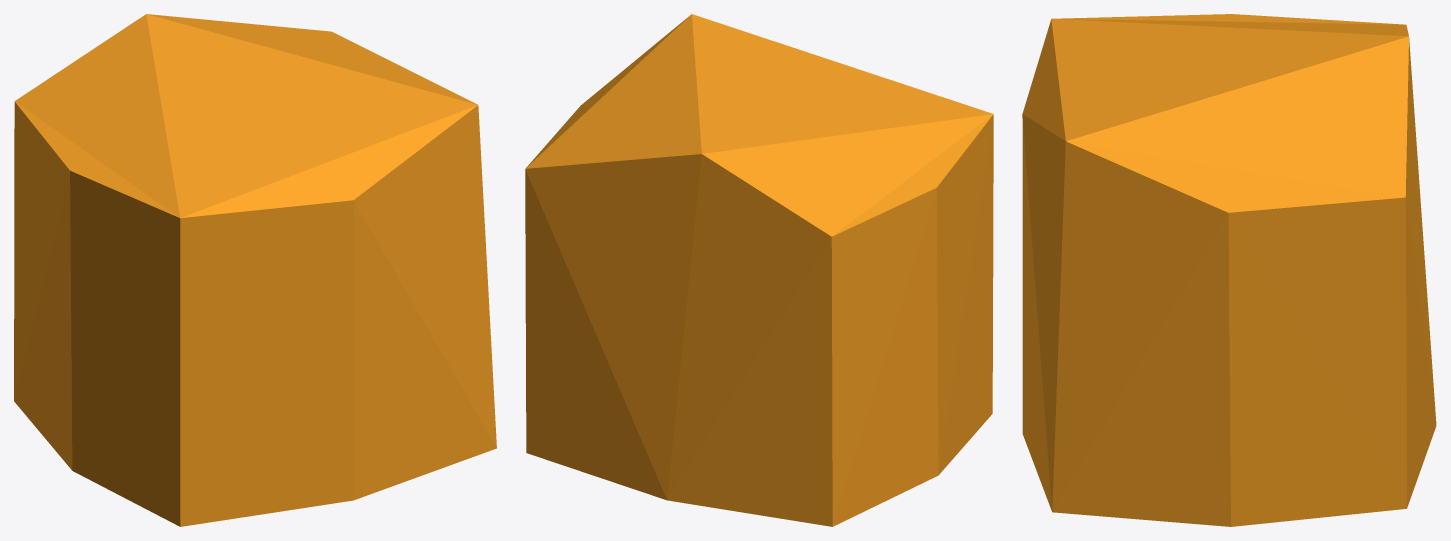
Rendered from SM_Icon_Letter_Dot_01.fbx.
3 views of the same model, side by side, from view 1: azimuth 30°, elevation 25°; view 2: azimuth 150°, elevation 25°; view 3: azimuth 270°, elevation 25° (orthographic). The views are drawn at different scales.
Visible parts, largest first — view 1: SM_Icon_Letter_Dot_01; view 2: SM_Icon_Letter_Dot_01; view 3: SM_Icon_Letter_Dot_01.
Boxes of the visible parts, bbox=[...] form: SM_Icon_Letter_Dot_01: bbox=[14, 14, 496, 526]; SM_Icon_Letter_Dot_01: bbox=[525, 14, 993, 526]; SM_Icon_Letter_Dot_01: bbox=[1022, 14, 1436, 526].
Size of the model in its own units: 12.51 by 11.67 by 11.39.
